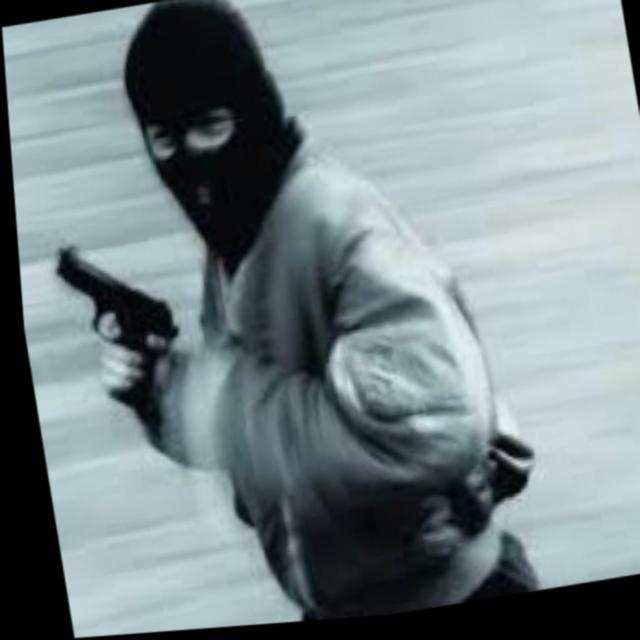weapon: (42, 227, 188, 458)
